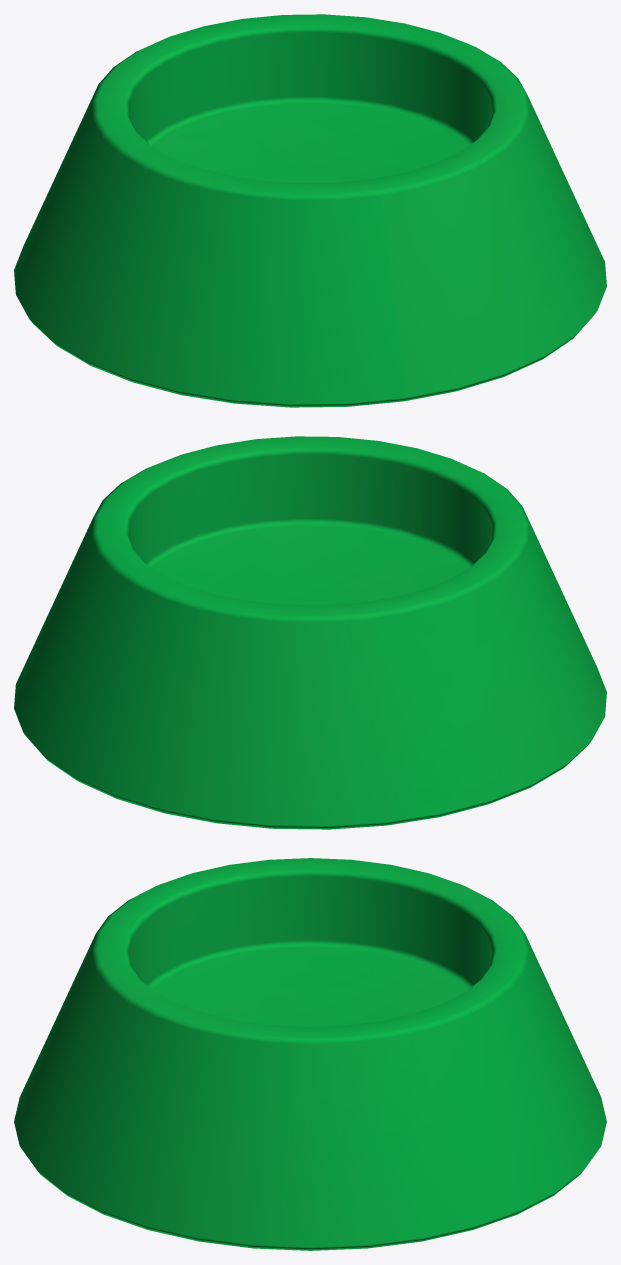
Rendered from Store_11_Animal_Bowl_4.glb.
The picture shows the model from 3 angles, top to bottom: view 1: azimuth 30°, elevation 25°; view 2: azimuth 150°, elevation 25°; view 3: azimuth 270°, elevation 25°; orthographic projection.
Parts seen in each view (by area): view 1: Store_11_Animal_Bowl_4; view 2: Store_11_Animal_Bowl_4; view 3: Store_11_Animal_Bowl_4.
Part boxes in pixels (bbox=[...]): Store_11_Animal_Bowl_4: bbox=[14, 14, 606, 407]; Store_11_Animal_Bowl_4: bbox=[14, 436, 606, 829]; Store_11_Animal_Bowl_4: bbox=[14, 858, 606, 1250].
Size of the model in its own units: 1.42 by 0.4731 by 1.42.
1 material, 1 textured.
